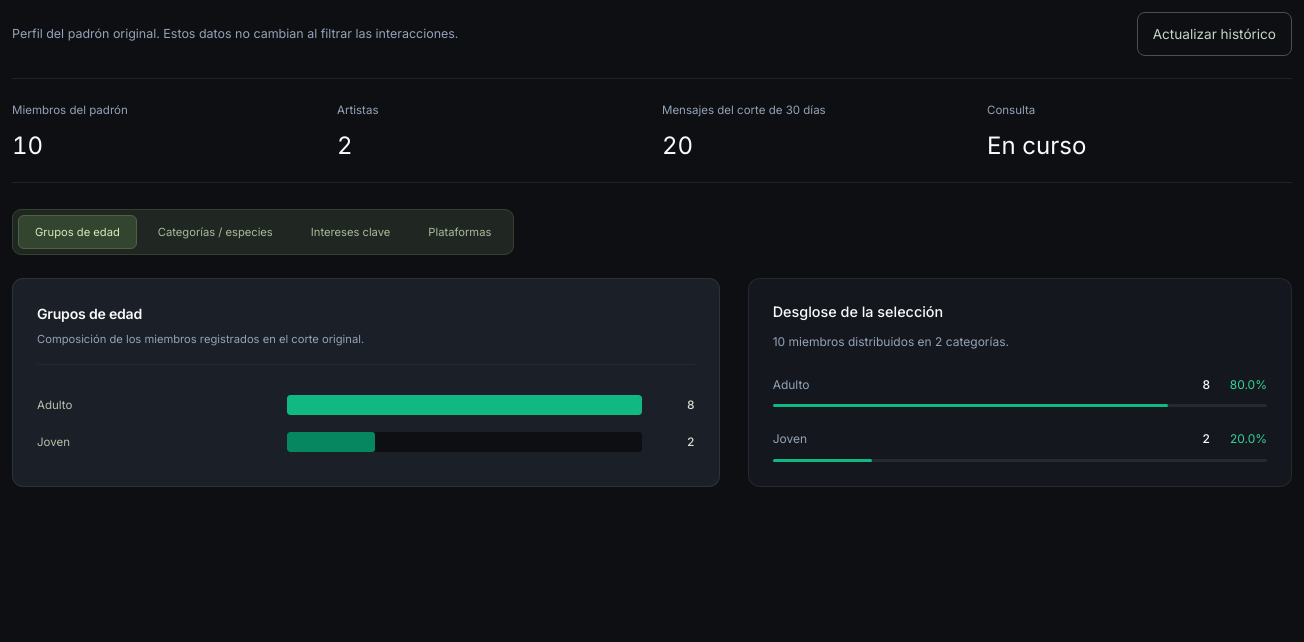
cambia la dimensión demográfica y conserva los conteos y porcentajes reales
expect the picture named "Distribución del padrón: Grupos de edad" is shown: met, box [37, 385, 695, 462]
Click the tab "Categorías / especies" at (215,232), box [141, 215, 290, 249]
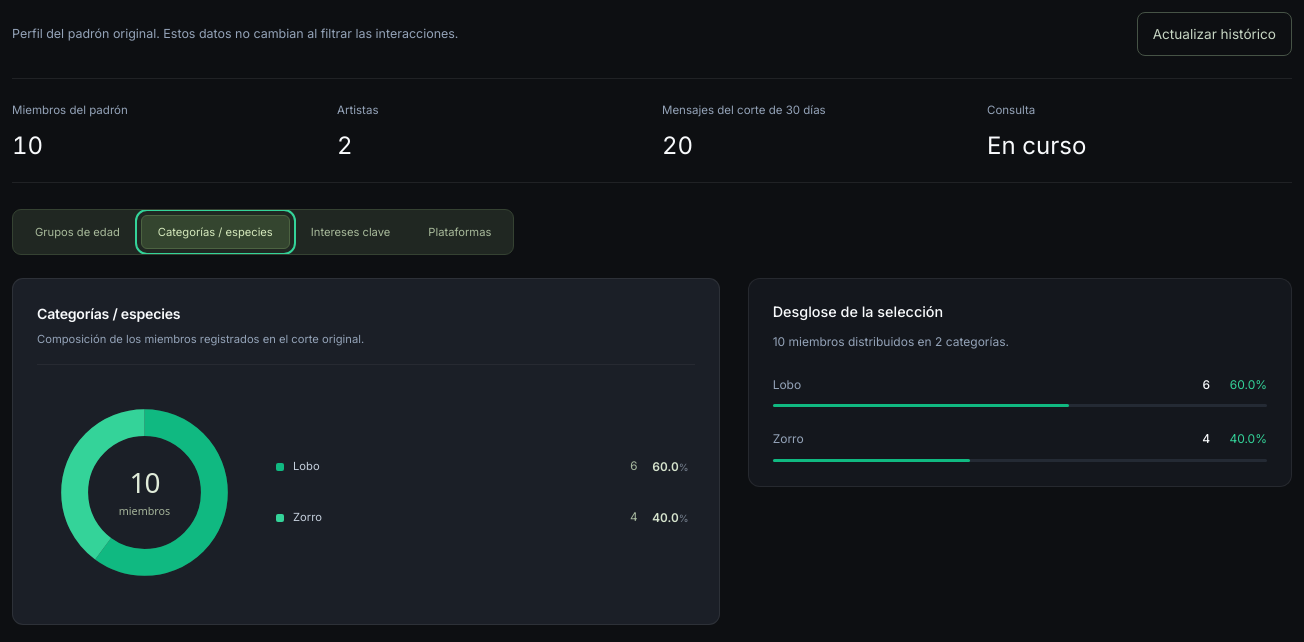
expect the picture named "Distribución del padrón: Categorías / especies" is shown: met, box [37, 385, 252, 600]
expect the panel shows "60.0%": met, box [12, 278, 1292, 624]
expect the panel shows "10 miembros distribuidos en 2 categorías": met, box [12, 278, 1292, 624]
